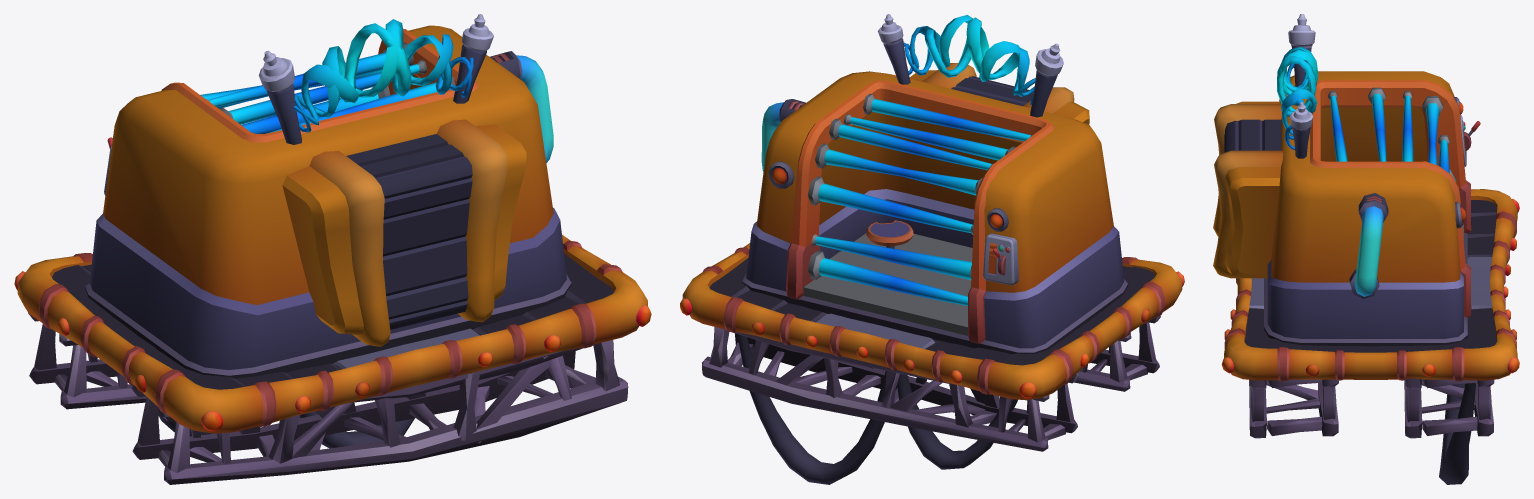
File: SM_Cage _02.fbx
3 views of the same model, side by side, from view 1: azimuth 30°, elevation 25°; view 2: azimuth 150°, elevation 25°; view 3: azimuth 270°, elevation 25° (orthographic). The views are drawn at different scales.
Visible parts, largest first — view 1: SM_Cage _02; view 2: SM_Cage _02; view 3: SM_Cage _02.
Boxes of the visible parts, bbox=[...] form: SM_Cage _02: bbox=[14, 14, 651, 484]; SM_Cage _02: bbox=[680, 14, 1184, 484]; SM_Cage _02: bbox=[1213, 14, 1519, 484].
Bounding box in the file's own units: 7.51 × 8.12 × 5.68.
